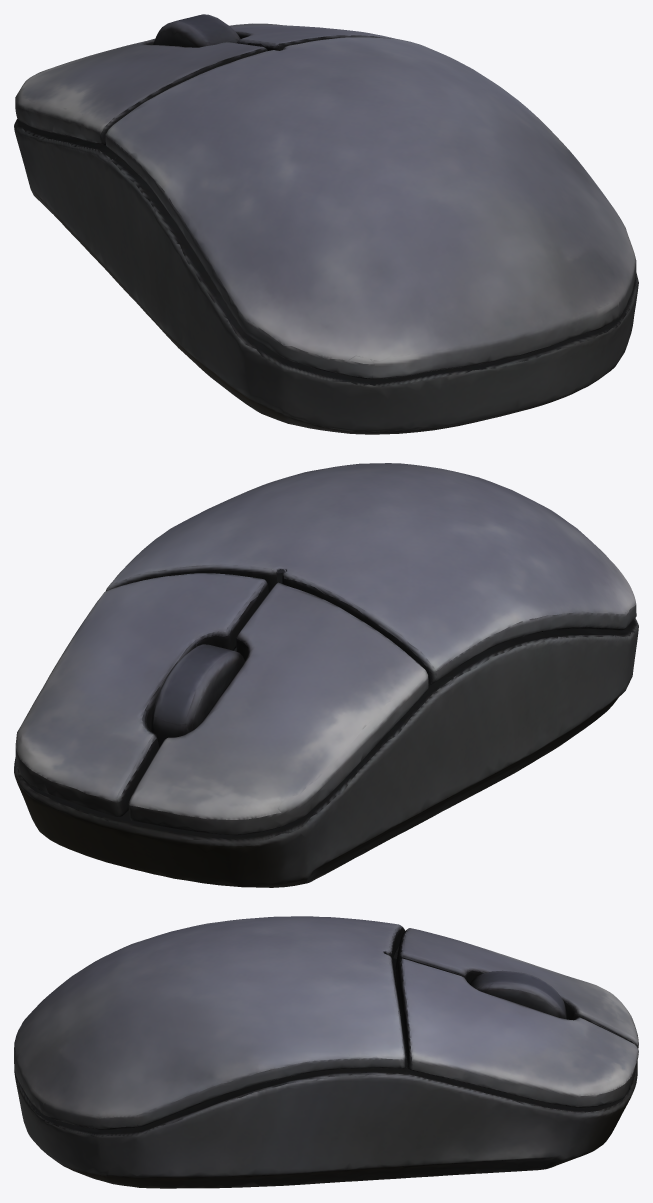
The model's file is computerlab_OpticalMouse.glb.
The picture shows the model from 3 angles, top to bottom: view 1: azimuth 30°, elevation 25°; view 2: azimuth 150°, elevation 25°; view 3: azimuth 270°, elevation 25°; orthographic projection. The views are drawn at different scales.
Parts seen in each view (by area): view 1: world; view 2: world; view 3: world.
Part boxes in pixels (<box>): world: <box>14,14,638,434</box>; world: <box>14,463,638,887</box>; world: <box>14,916,638,1188</box>.
Bounding box in the file's own units: 0.5805 × 0.3161 × 1.
Materials: 1 (1 with a texture image).
